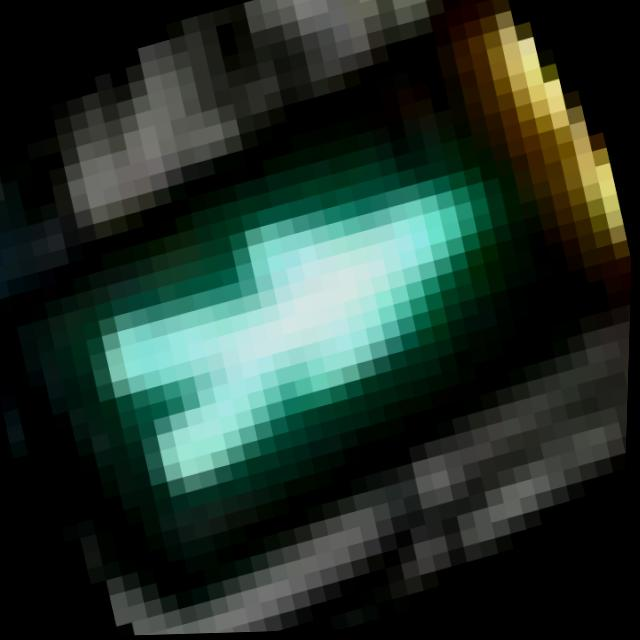green_light: (55, 104, 616, 574)
